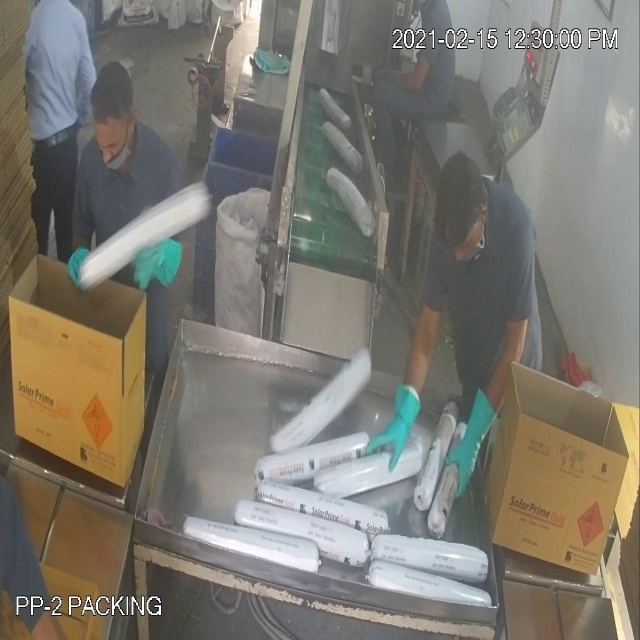Guantes: (441, 381, 502, 513), (356, 368, 422, 476), (122, 221, 189, 300)
Sin_guantes: (384, 61, 439, 100)
